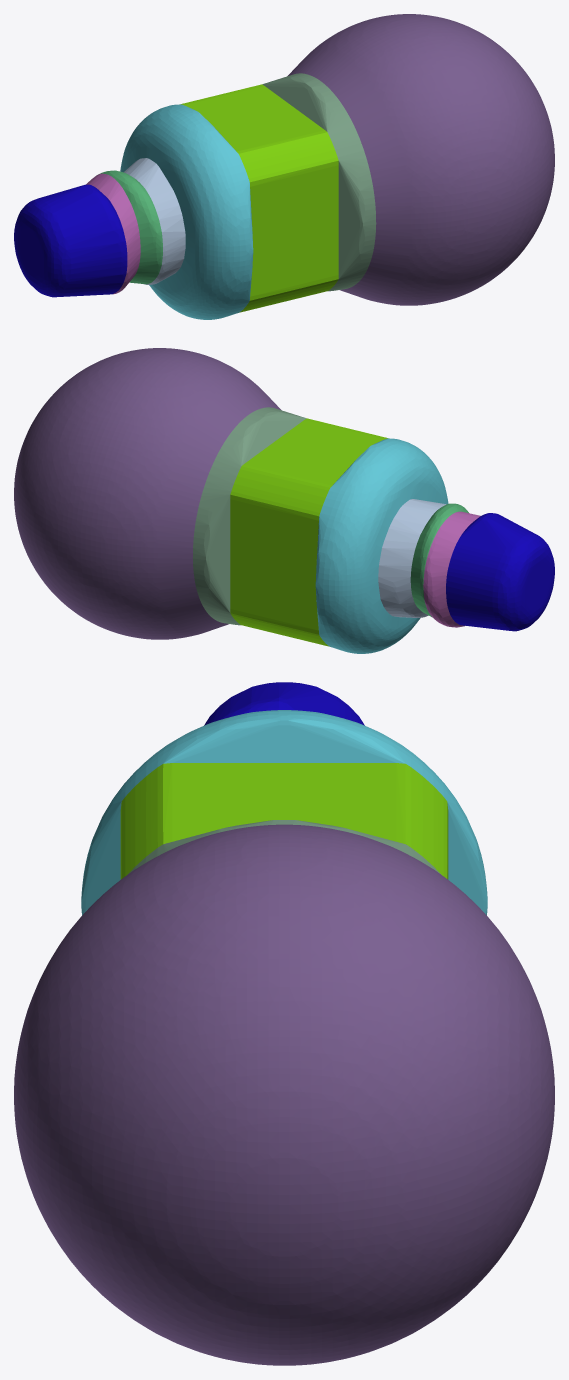
The model's file is lamp_bulb_canonical.obj.
The picture shows the model from 3 angles, top to bottom: view 1: azimuth 30°, elevation 25°; view 2: azimuth 150°, elevation 25°; view 3: azimuth 270°, elevation 25°; orthographic projection. The views are drawn at different scales.
Visible parts, largest first — view 1: geometry_1, geometry_4, geometry_2, geometry_5, geometry_0, geometry_6, geometry_3, geometry_7; view 2: geometry_1, geometry_4, geometry_2, geometry_5, geometry_0, geometry_6, geometry_7, geometry_3; view 3: geometry_1, geometry_4, geometry_2, geometry_5, geometry_0.
Boxes of the visible parts, x1,y1,x2,y2 form: geometry_1: (287, 14, 554, 305); geometry_4: (181, 84, 338, 312); geometry_2: (120, 104, 253, 319); geometry_5: (14, 184, 127, 297); geometry_0: (262, 73, 376, 291); geometry_6: (123, 158, 185, 284); geometry_3: (98, 170, 162, 284); geometry_7: (86, 173, 140, 294); geometry_1: (14, 348, 281, 639); geometry_4: (230, 418, 387, 646); geometry_2: (315, 438, 448, 653); geometry_5: (446, 513, 554, 631); geometry_0: (192, 407, 306, 625); geometry_6: (378, 499, 446, 617); geometry_7: (423, 511, 480, 627); geometry_3: (410, 503, 468, 617); geometry_1: (14, 824, 554, 1365); geometry_4: (120, 763, 448, 879); geometry_2: (81, 710, 487, 915); geometry_5: (204, 682, 364, 725); geometry_0: (127, 820, 441, 874).
Bounding box in the file's own units: 0.1223 × 0.0612 × 0.0612.
